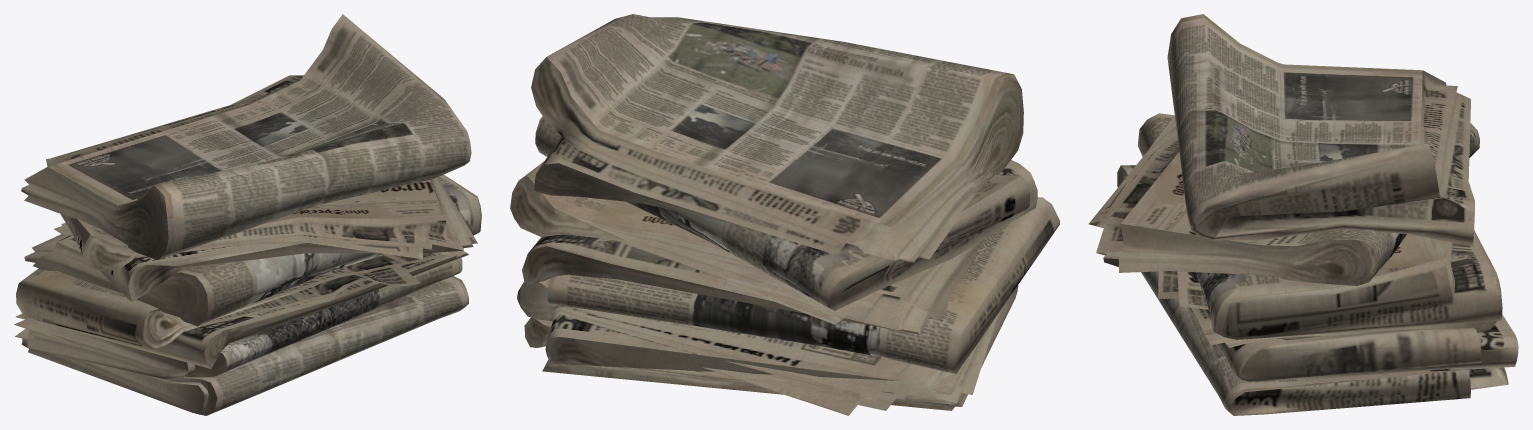
File: Newspapers.fbx
3 views of the same model, side by side, from view 1: azimuth 30°, elevation 25°; view 2: azimuth 150°, elevation 25°; view 3: azimuth 270°, elevation 25° (orthographic). The views are drawn at different scales.
Visible parts, largest first — view 1: sm36_010_newspaper01a_00ms.001; view 2: sm36_010_newspaper01a_00ms.001; view 3: sm36_010_newspaper01a_00ms.001.
Part boxes in pixels (<box>): sm36_010_newspaper01a_00ms.001: <box>14,14,481,415</box>; sm36_010_newspaper01a_00ms.001: <box>510,14,1059,415</box>; sm36_010_newspaper01a_00ms.001: <box>1088,14,1518,415</box>.
Size of the model in its own units: 48.02 by 28.67 by 42.79.
